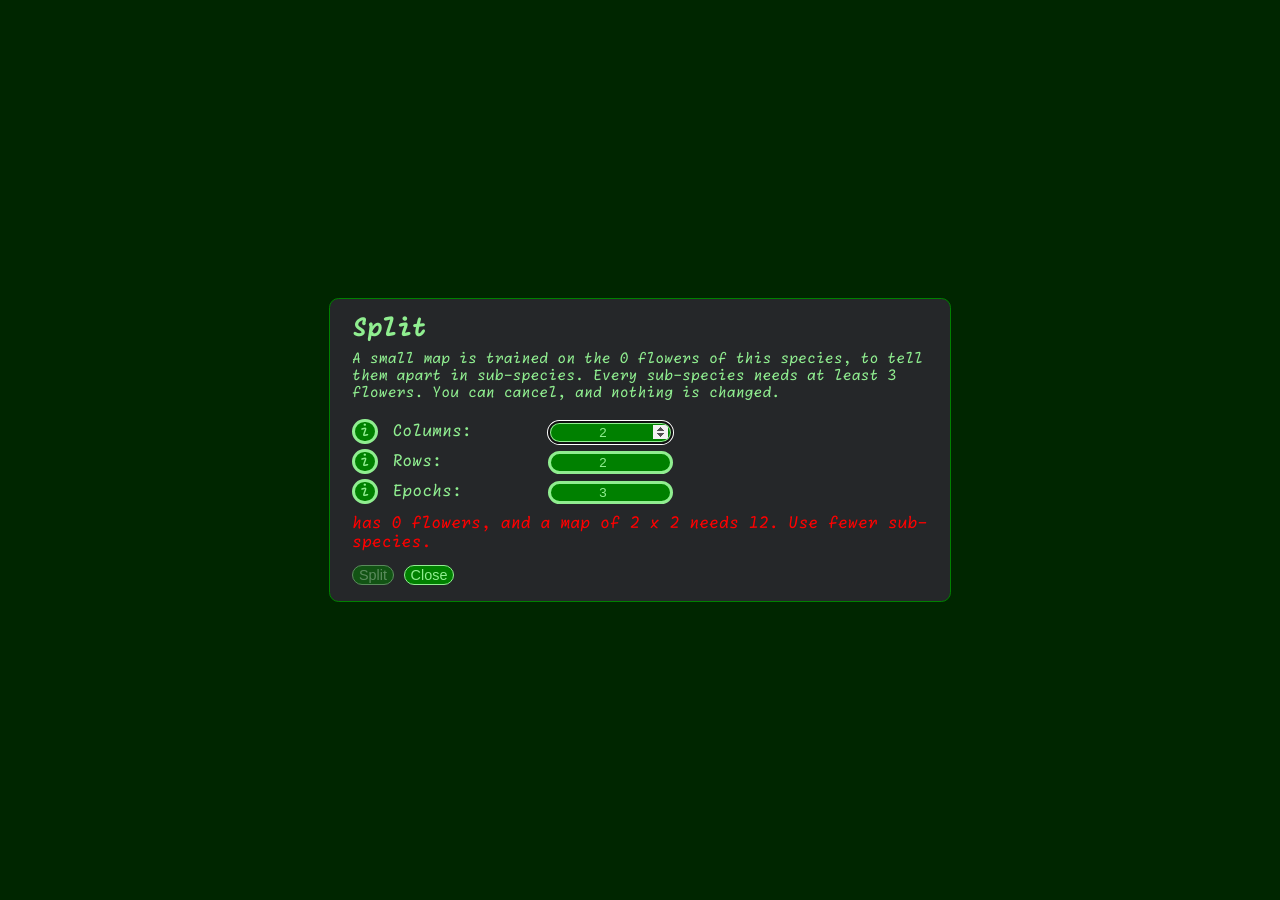
Test case: SplitModal › a single sub-species is not a split
Replace the text in the number field labelled "Columns:" with "1". click: (611, 433)
box: left=548, top=421, right=673, bottom=444
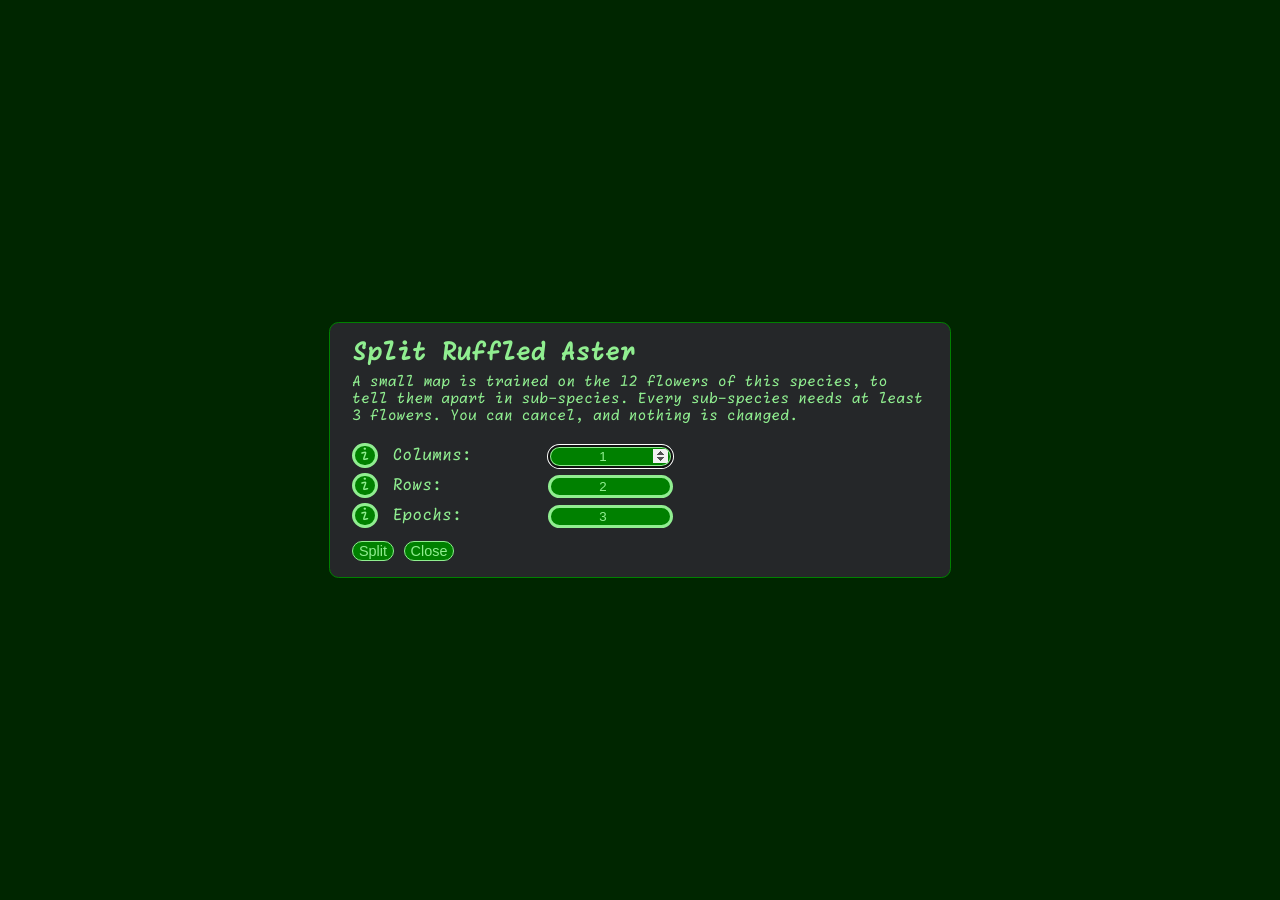
Replace the text in the number field labelled "Rows:" with "1". click: (611, 487)
box: left=548, top=475, right=673, bottom=498
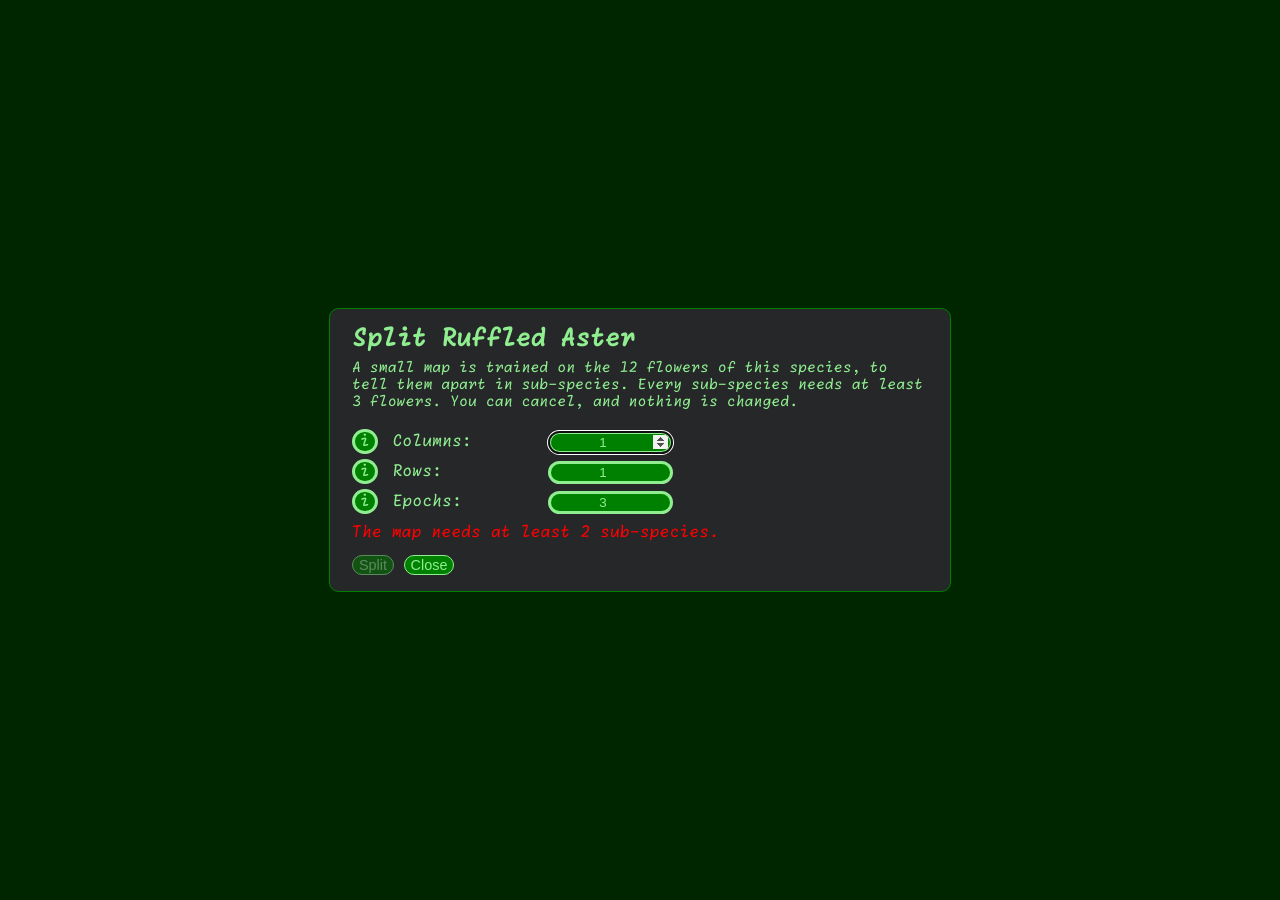
expect the text with test id "split-invalid" reads "The map needs at least 2 sub-species.": met, box left=352, top=524, right=719, bottom=540
